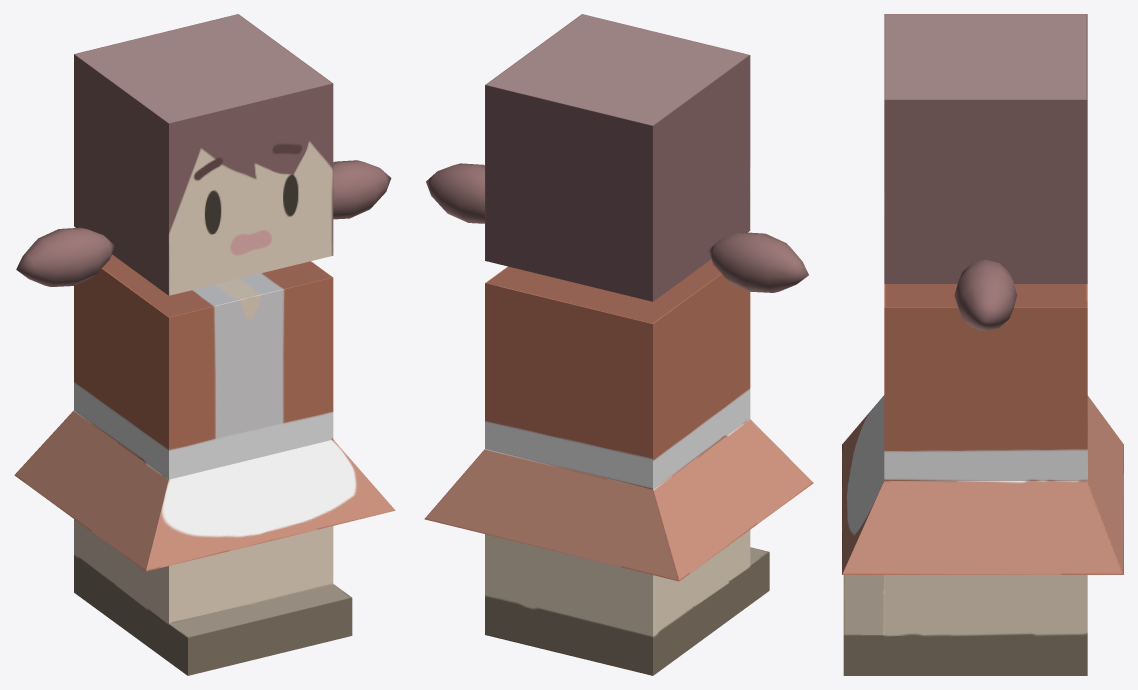
File: ChMD_villager_f_02.fbx
The picture shows the model from 3 angles, left to right: view 1: azimuth 30°, elevation 25°; view 2: azimuth 150°, elevation 25°; view 3: azimuth 270°, elevation 25°; orthographic projection. The views are drawn at different scales.
Visible parts, largest first — view 1: body, head, hair_02, hair_01; view 2: body, head, hair_02, hair_01; view 3: body, head, hair_01.
Boxes of the visible parts, <box> form: body: <box>14,254,395,675</box>; head: <box>74,14,333,295</box>; hair_02: <box>16,227,114,286</box>; hair_01: <box>333,160,391,219</box>; body: <box>424,259,813,675</box>; head: <box>485,14,750,301</box>; hair_02: <box>708,232,808,292</box>; hair_01: <box>426,163,484,223</box>; body: <box>842,284,1123,675</box>; head: <box>884,14,1087,283</box>; hair_01: <box>954,259,1017,330</box>.
Size of the model in its own units: 114 by 156 by 69.29.
Materials: 1 (1 with a texture image).
